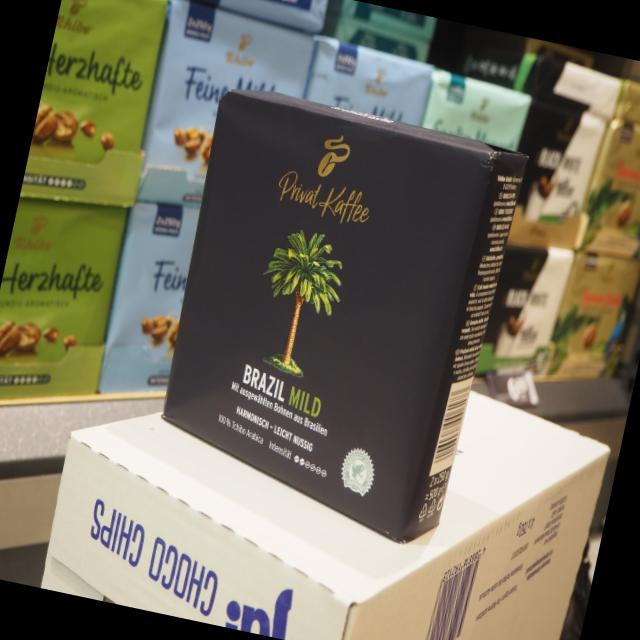BM Gemahlen: (157, 72, 530, 565)
